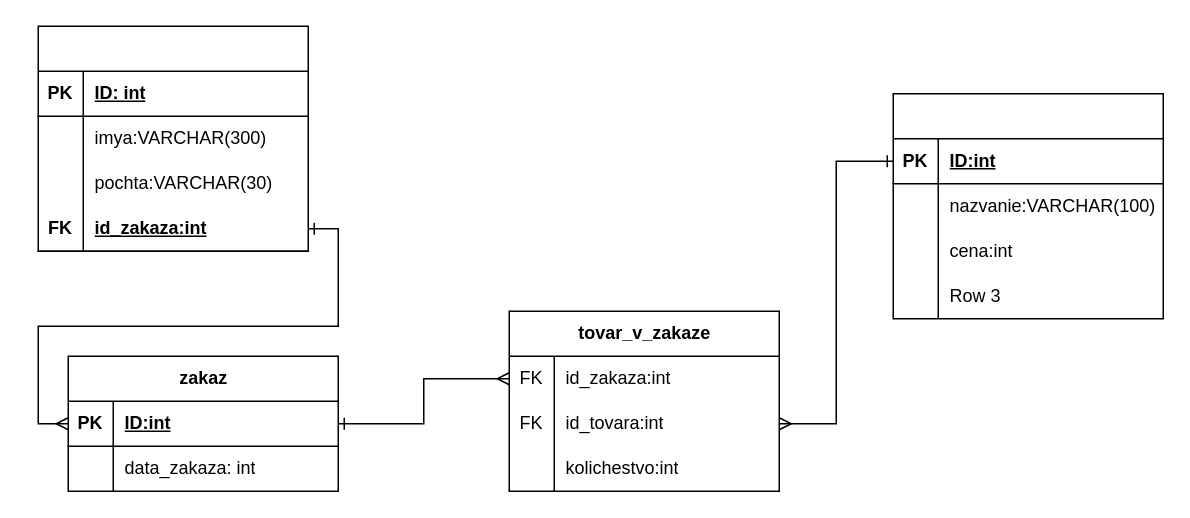
This 1190x518 diagram has some shape labels left out. The box of each missing label's shape, as (x1, y1, x2, y2) in pixels:
klient: (37, 25, 308, 251)
tovar: (892, 92, 1163, 319)
